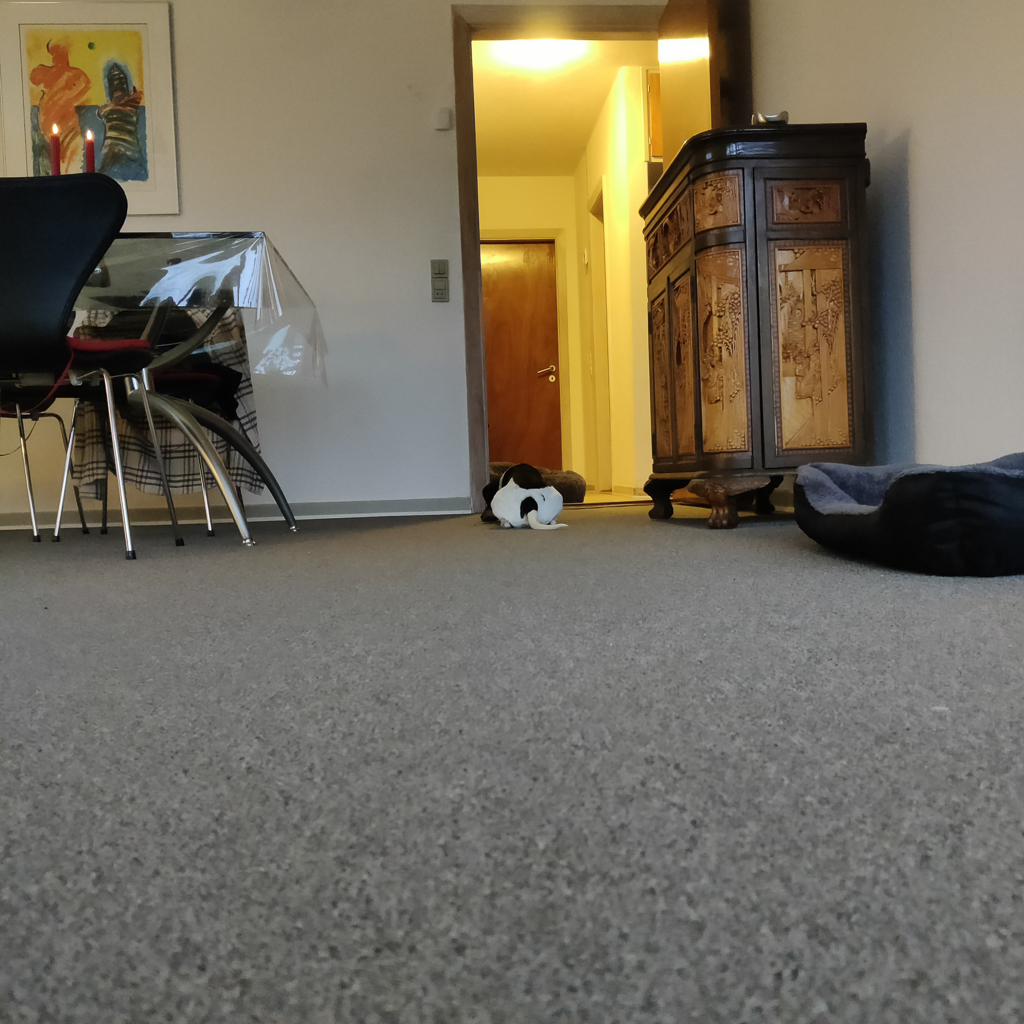Dog: (458, 448, 588, 542)
